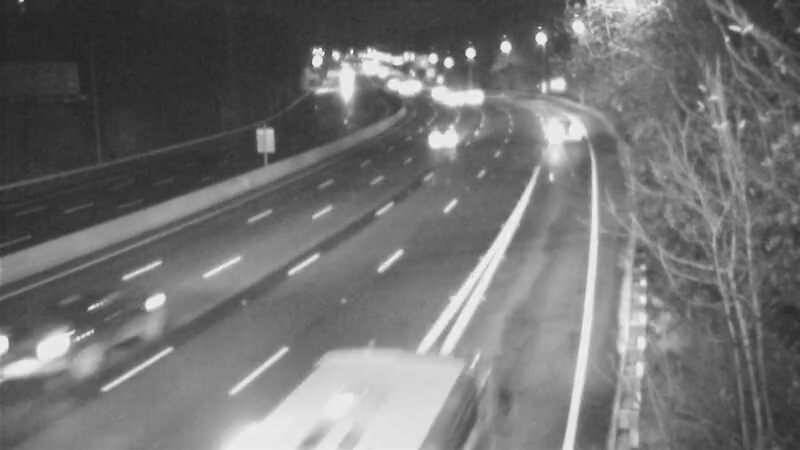vehicle: (1, 288, 103, 398), (287, 359, 397, 450), (365, 58, 415, 108), (382, 67, 432, 117), (412, 65, 462, 115), (448, 72, 498, 122), (423, 75, 473, 125), (529, 97, 579, 147), (424, 113, 474, 163)
